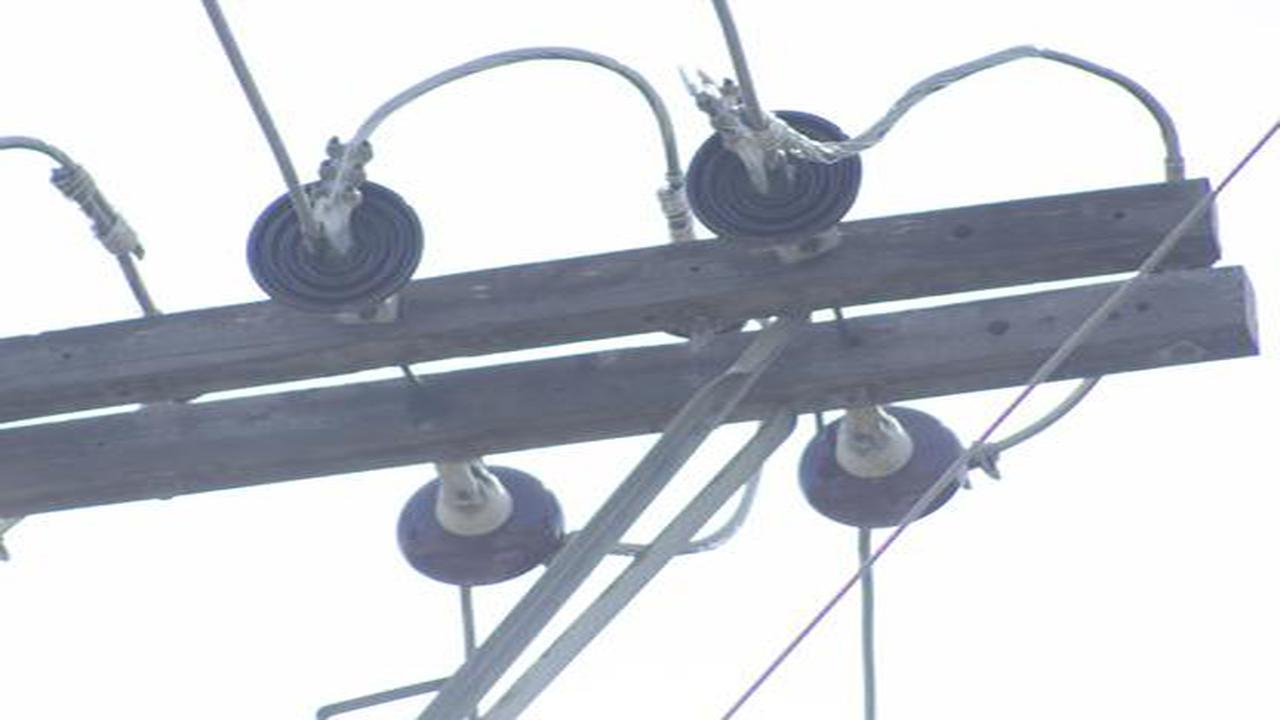insulator_disc: (680, 72, 871, 251), (238, 172, 428, 326), (390, 457, 572, 593), (797, 399, 975, 532)
